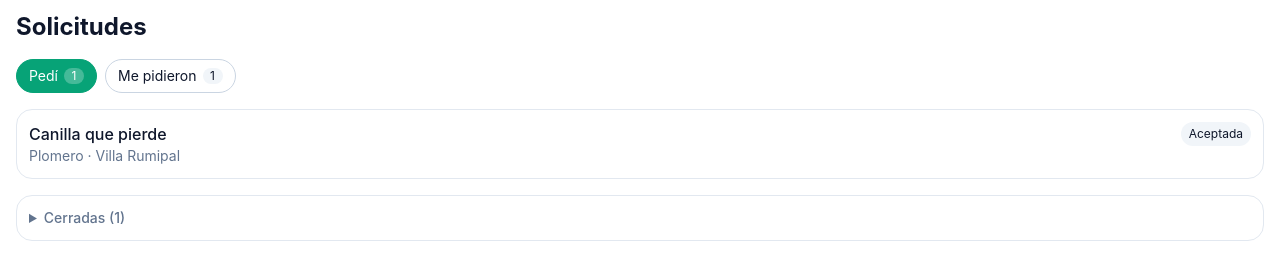
Test: pantalla de solicitudes › separa lo que pedí de lo que me pidieron
This screenshot has width=1280, height=258.
Expected: the text "Canilla que pierde" is shown, [29, 122, 180, 146]
Expected: the text "Destapar cocina" is not shown
Click the button "Me pidieron 1".
click(170, 76)  # box [105, 59, 236, 93]
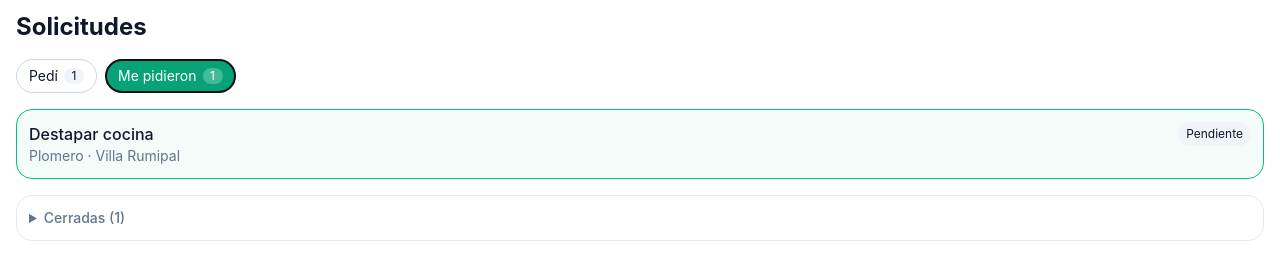
Expected: the text "Destapar cocina" is shown, [29, 124, 154, 144]
Expected: the link "Canilla que pierde" is gone
